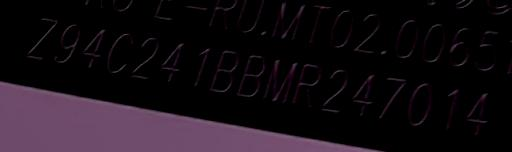letter: (261, 57, 299, 103), (208, 48, 244, 92), (234, 52, 268, 98), (26, 15, 60, 60), (291, 62, 325, 106), (320, 66, 352, 112), (462, 87, 492, 136), (376, 72, 408, 117), (52, 20, 84, 63), (105, 30, 137, 73), (130, 35, 160, 80), (351, 70, 379, 118), (406, 81, 436, 124), (160, 38, 188, 83), (186, 43, 214, 87), (438, 84, 462, 131), (82, 25, 108, 68)
